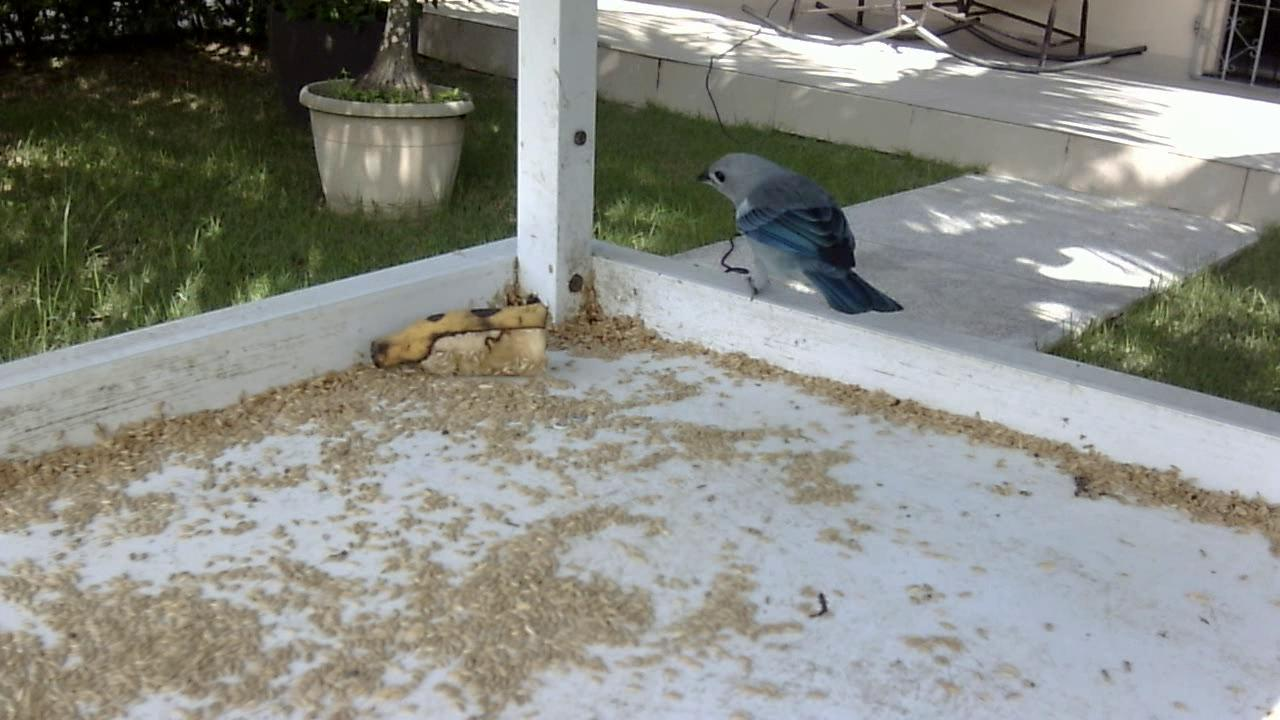sanhaco_da_amazonia: (680, 140, 915, 326)
